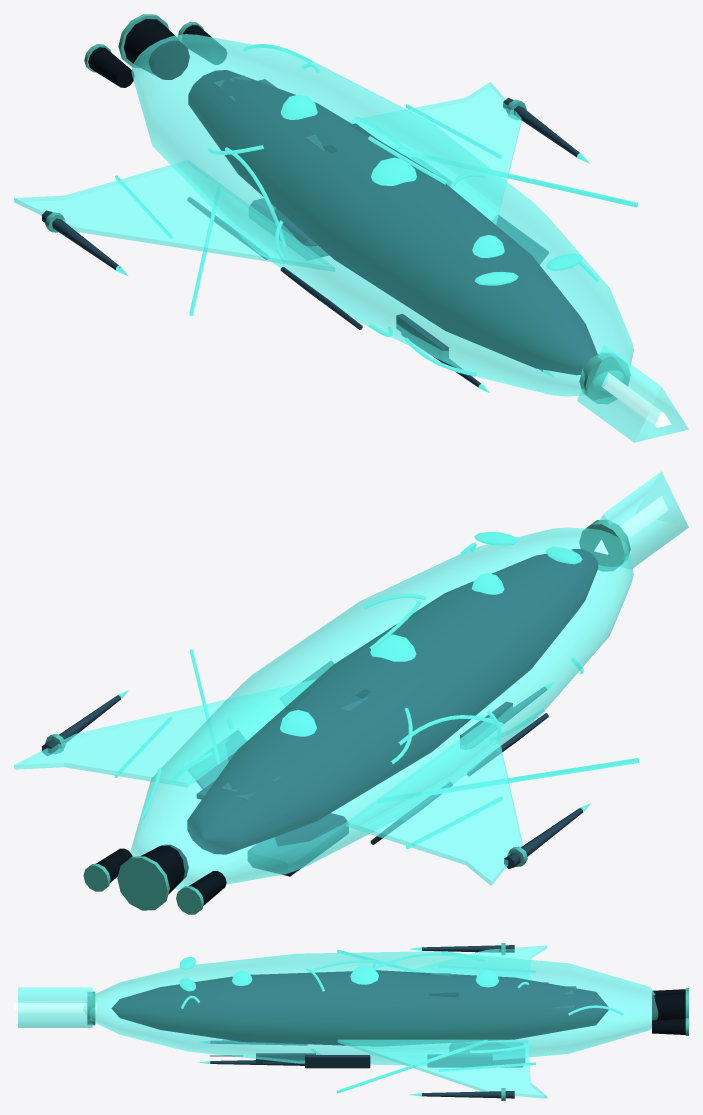
Rendered from refleks-swietlisci-trade-70-lod0.glb.
The picture shows the model from 3 angles, top to bottom: view 1: azimuth 30°, elevation 25°; view 2: azimuth 150°, elevation 25°; view 3: azimuth 270°, elevation 25°; orthographic projection. The views are drawn at different scales.
Bounding box in the file's own units: 10.07 × 3.15 × 19.
